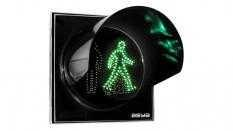green: (53, 8, 158, 123)
